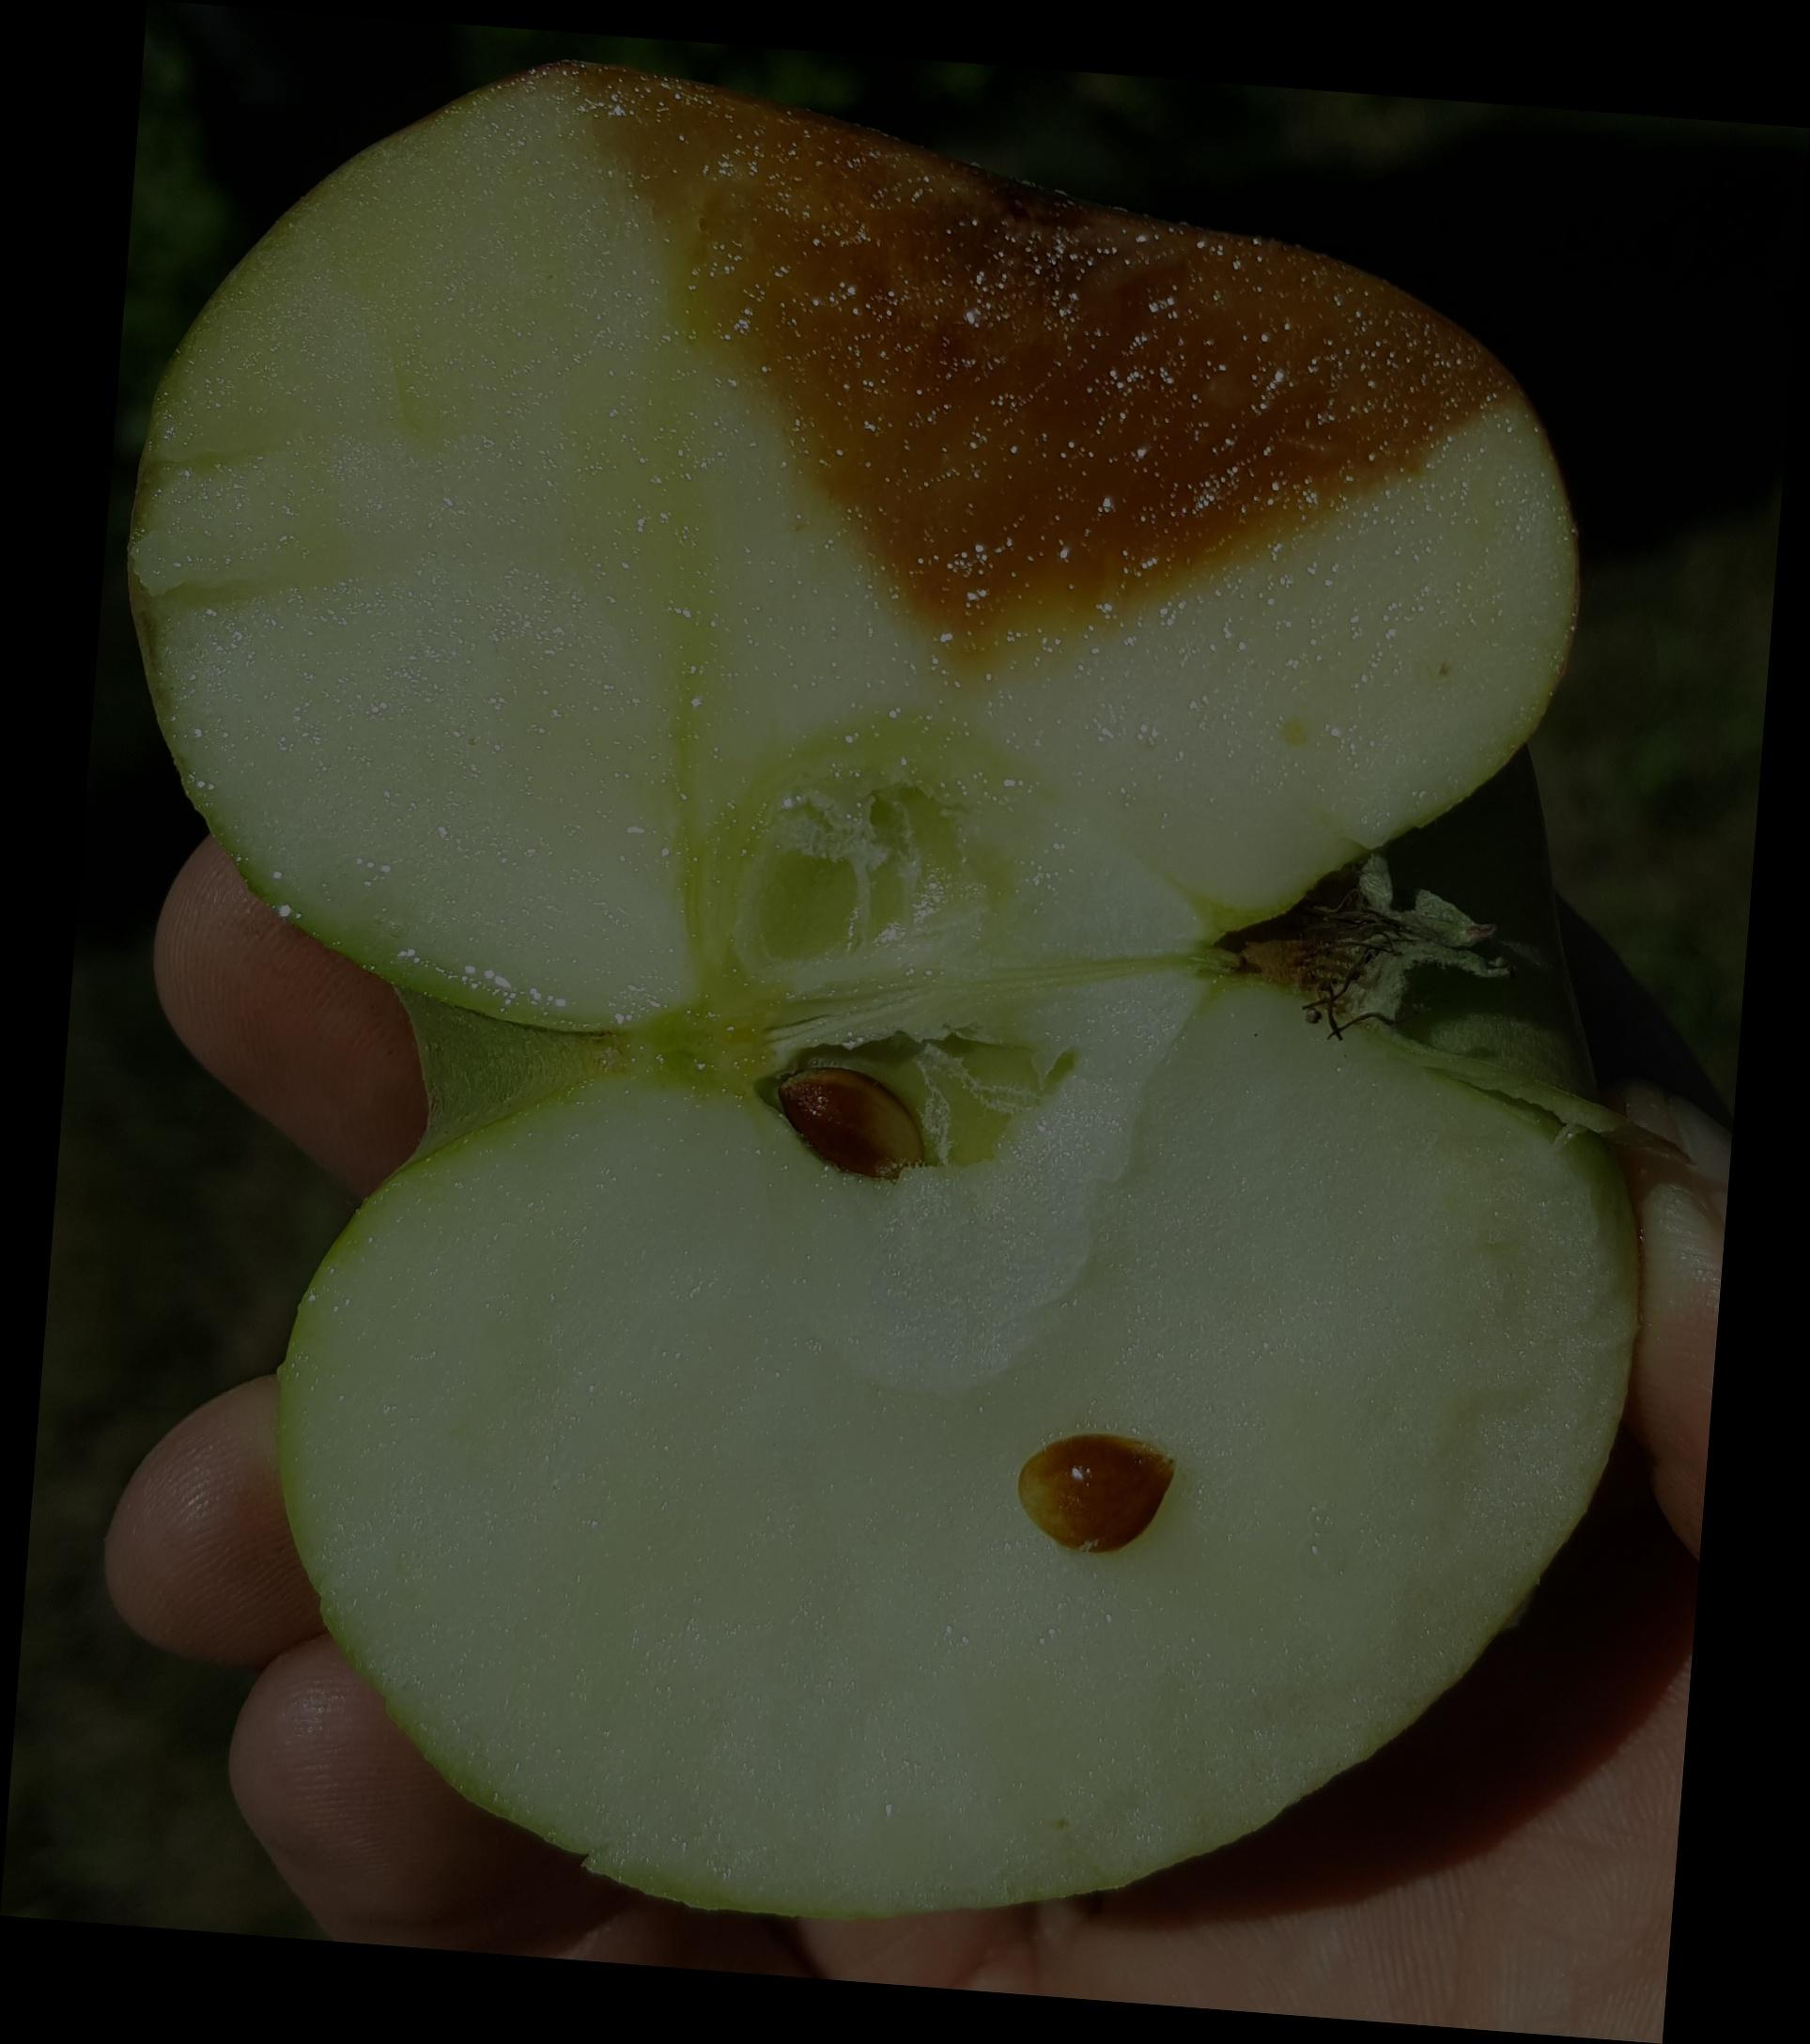rotten apple: (328, 155, 1562, 620)
